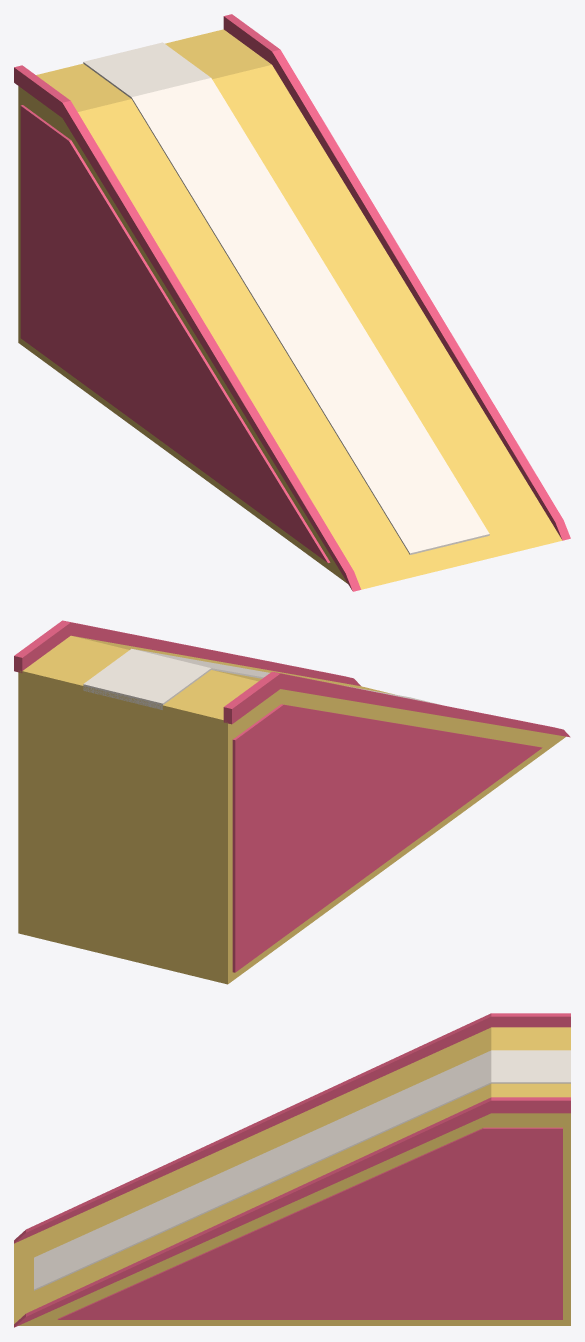
The model's file is CV3_CakeRamp.fbx.
3 views of the same model, one above another, from view 1: azimuth 30°, elevation 25°; view 2: azimuth 150°, elevation 25°; view 3: azimuth 270°, elevation 25° (orthographic). The views are drawn at different scales.
Parts seen in each view (by area): view 1: CV3_CakeRamp_Sponge, CV3_CakeRamp_Icing, CV3_CakeRamp_Cream; view 2: CV3_CakeRamp_Sponge, CV3_CakeRamp_Icing, CV3_CakeRamp_Cream; view 3: CV3_CakeRamp_Icing, CV3_CakeRamp_Sponge, CV3_CakeRamp_Cream.
Part boxes in pixels (<box>): CV3_CakeRamp_Sponge: <box>18,29,562,589</box>; CV3_CakeRamp_Icing: <box>14,14,570,591</box>; CV3_CakeRamp_Cream: <box>83,42,489,554</box>; CV3_CakeRamp_Sponge: <box>18,635,565,984</box>; CV3_CakeRamp_Icing: <box>14,620,570,972</box>; CV3_CakeRamp_Cream: <box>83,648,440,709</box>; CV3_CakeRamp_Icing: <box>14,1013,570,1327</box>; CV3_CakeRamp_Sponge: <box>14,1027,570,1325</box>; CV3_CakeRamp_Cream: <box>34,1050,570,1290</box>.
Bounding box in the file's own units: 10.4 × 12.6 × 28.
